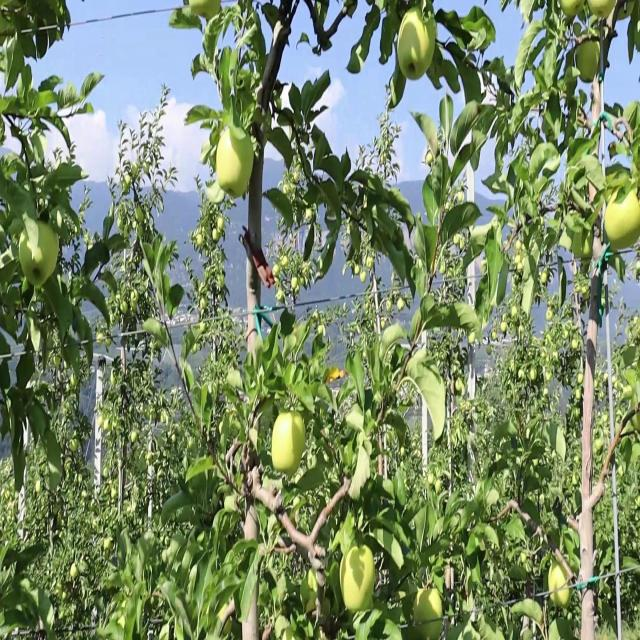apple: (400, 7, 437, 85), (216, 127, 256, 199), (20, 220, 60, 288), (604, 184, 640, 249), (272, 412, 308, 476), (344, 547, 376, 612), (416, 583, 444, 624), (576, 42, 601, 85), (552, 561, 572, 610), (552, 561, 571, 596), (560, 0, 583, 25), (588, 0, 615, 21), (552, 583, 572, 610), (588, 0, 612, 21), (616, 7, 630, 23), (352, 263, 362, 277), (104, 419, 112, 434), (532, 369, 538, 384), (96, 419, 104, 427)
